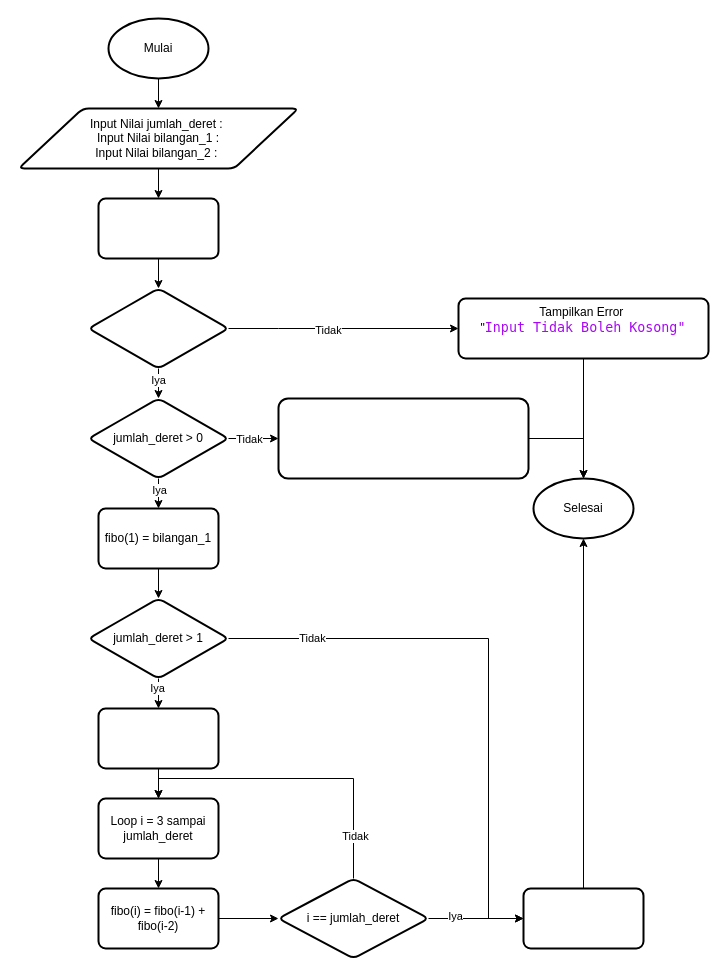
Some shapes in this 726 by 976 pixel diagram are drawn without their labels. Each missing label, with the box of its shape:
fibo(2) = bilangan_2: (97, 707, 219, 769)
Input != NULL: (87, 287, 229, 369)
Simpan data variable: (97, 197, 219, 259)
Tampilkan Data: (522, 887, 644, 949)
Tampilkan Error " Jumlah Deret Tidak Boleh Kurang dari 1 ": (277, 397, 529, 479)
